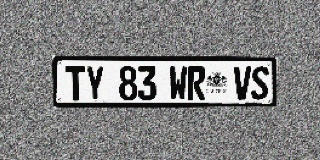3: (138, 66, 156, 100)
8: (119, 66, 137, 100)
R: (187, 66, 205, 100)
S: (251, 66, 269, 100)
T: (66, 66, 85, 101)
V: (233, 66, 251, 100)
W: (169, 66, 187, 100)
Y: (85, 66, 104, 101)
